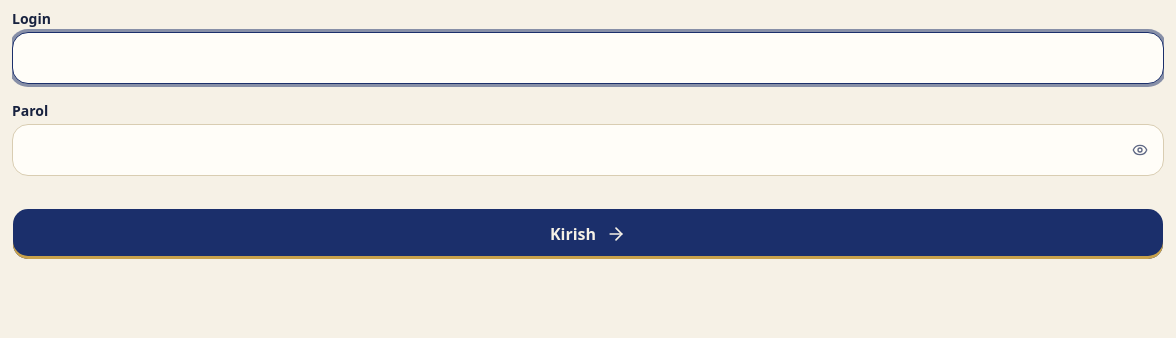
Test: LoginForm › should show our text when the login is rate limited
Type "admin" into the field labelled "Login" at (588, 58), box 12,32 -> 1164,84
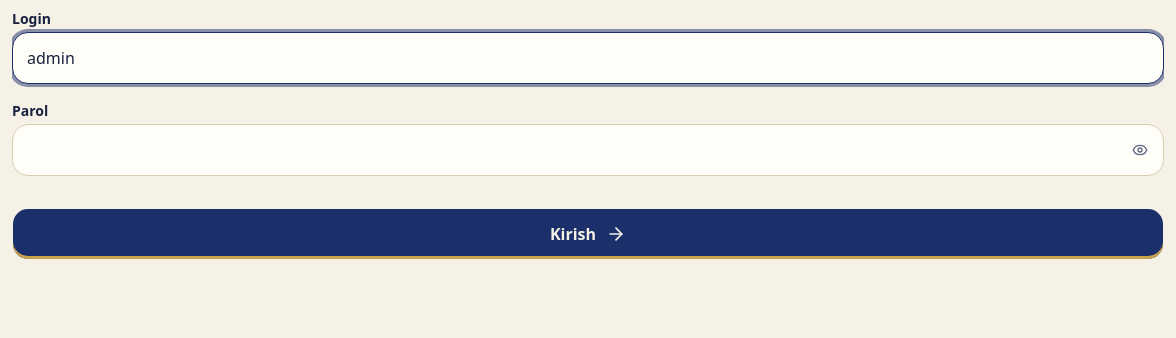
Type "wrong-pass" into the password field labelled "Parol" at (588, 150), box 12,124 -> 1164,176
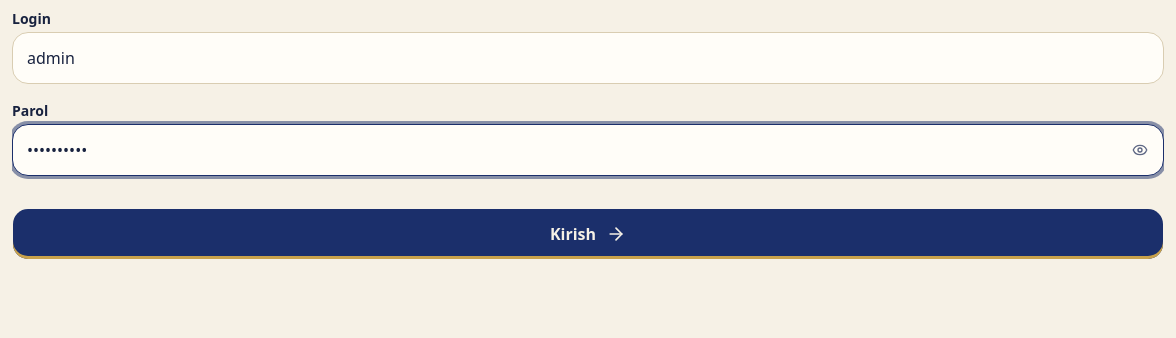
Click the button "Kirish" at (588, 234), box 12,208 -> 1164,260
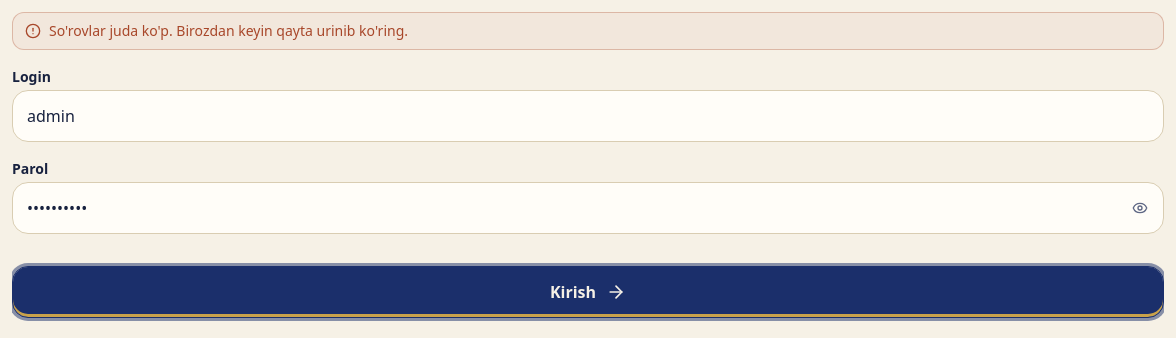
expect the message shows "So'rovlar juda ko'p": met, box 49,21 -> 408,40
